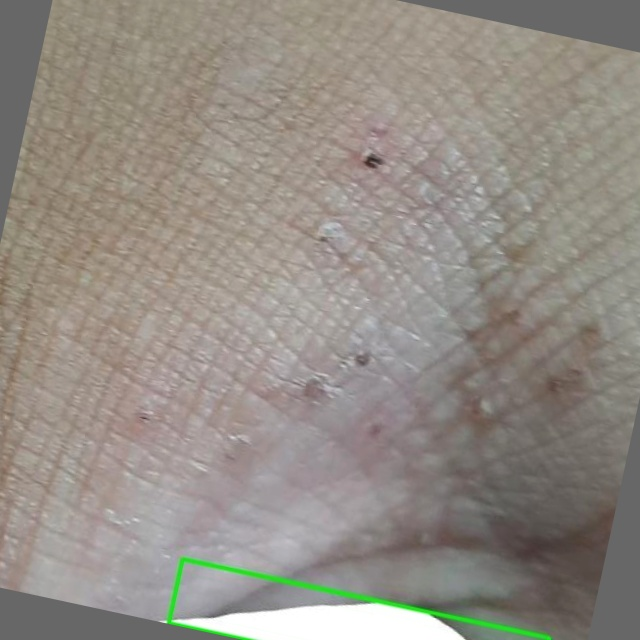Scabies: (169, 559, 549, 639)
